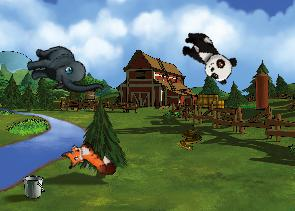elephant: (23, 36, 104, 107)
fox: (57, 132, 119, 192)
panda: (174, 26, 241, 87)
